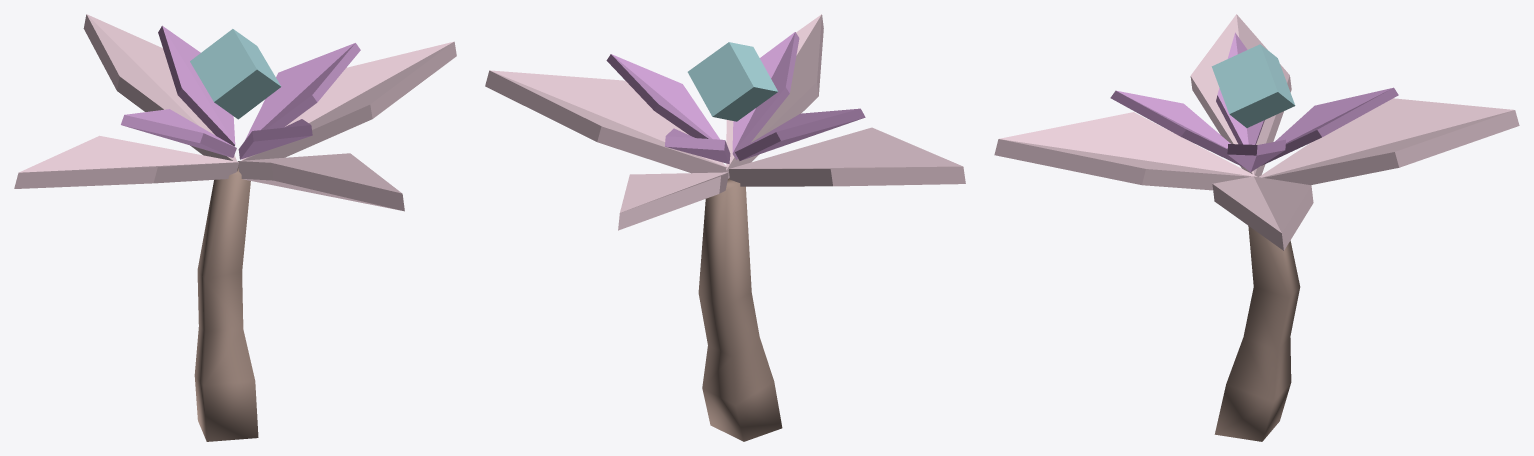
File: flower.fbx
The picture shows the model from 3 angles, left to right: view 1: azimuth 30°, elevation 25°; view 2: azimuth 150°, elevation 25°; view 3: azimuth 270°, elevation 25°; orthographic projection.
Visible parts, largest first — view 1: group3, trunk, group4, mesh1980671293; view 2: group3, trunk, group4, mesh1980671293; view 3: group3, trunk, group4, mesh1980671293.
Part boxes in pixels (box(x1,y1,x2,y2)): group3: box(14, 14, 456, 211); trunk: box(194, 167, 258, 441); group4: box(121, 25, 360, 159); mesh1980671293: box(190, 29, 281, 119); group3: box(485, 14, 965, 230); trunk: box(698, 178, 782, 441); group4: box(606, 32, 865, 164); mesh1980671293: box(687, 42, 778, 121); group3: box(994, 14, 1519, 250); trunk: box(1214, 226, 1300, 441); group4: box(1110, 32, 1398, 172); mesh1980671293: box(1211, 44, 1295, 127).
Bounding box in the file's own units: 1.41 × 1.13 × 1.39.
